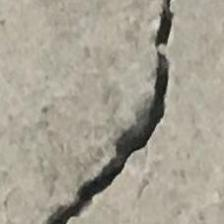Crack: (63, 0, 186, 224)
